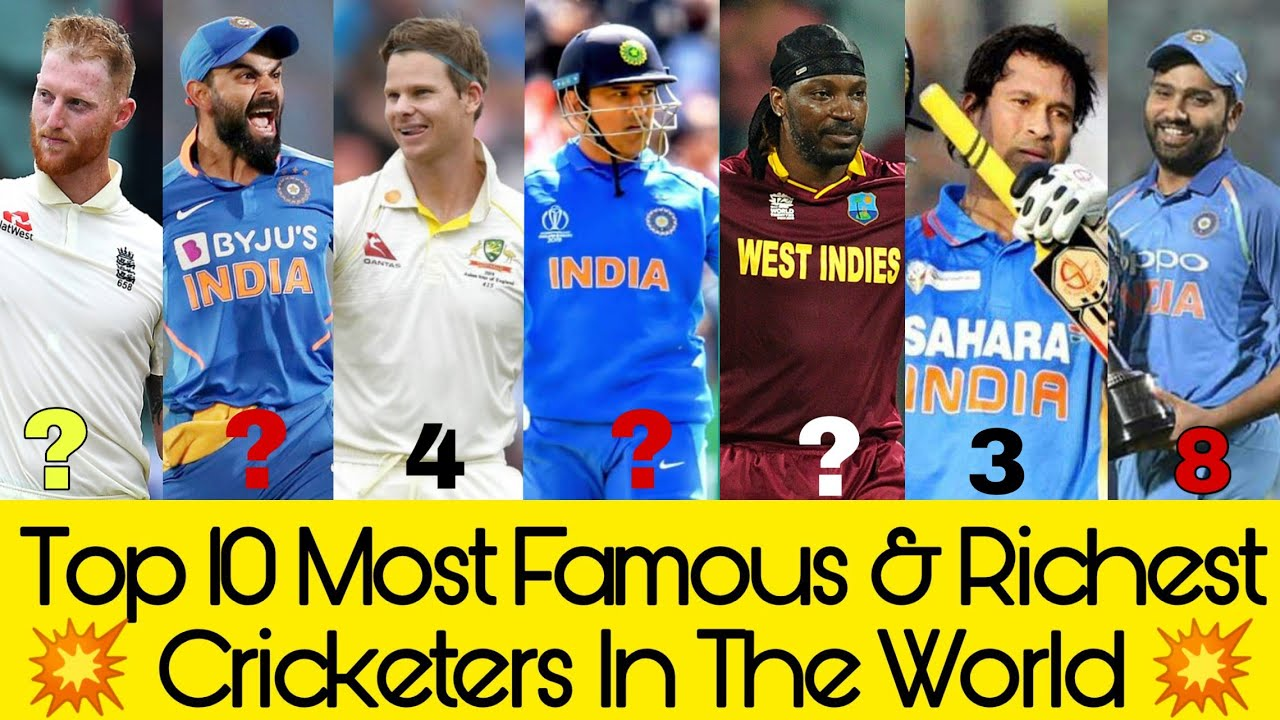NoMask: (221, 57, 289, 173), (1147, 75, 1222, 180), (1001, 82, 1074, 184), (31, 78, 106, 177), (794, 75, 866, 163), (384, 78, 458, 161), (597, 82, 657, 164)
